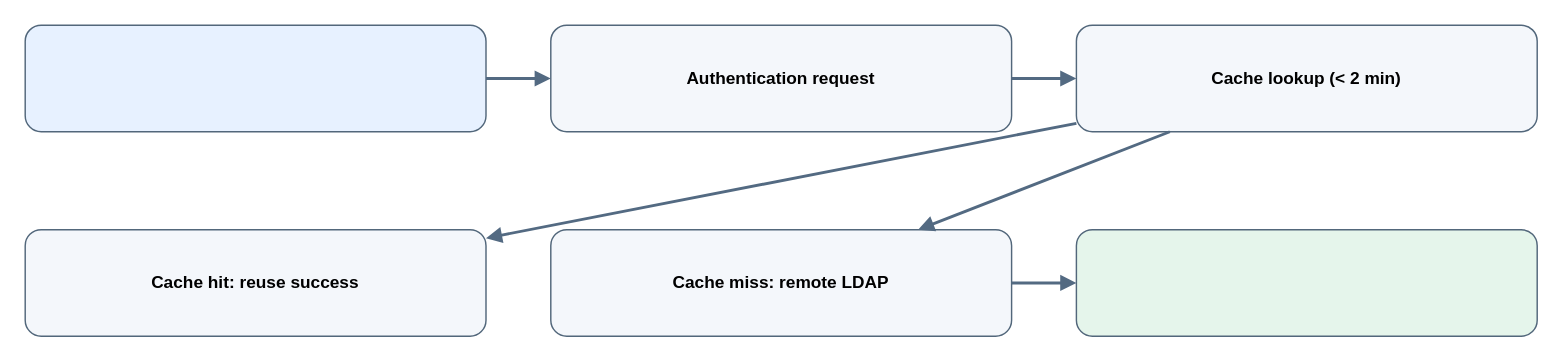
Some shapes in this 1562 by 361 pixel diagram are drawn without their labels. The box of each missing label's shape, as (x1, y1, x2, y2) in pixels:
Imported LDAP user: (24, 24, 486, 132)
Success result / cache refresh: (1075, 228, 1537, 336)
